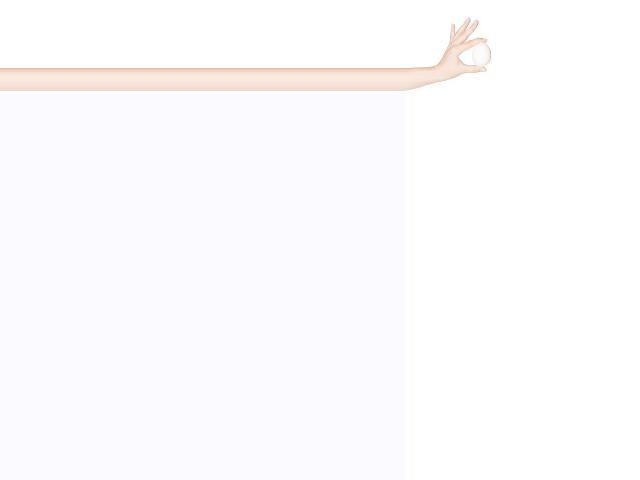egg: (472, 42, 491, 67)
